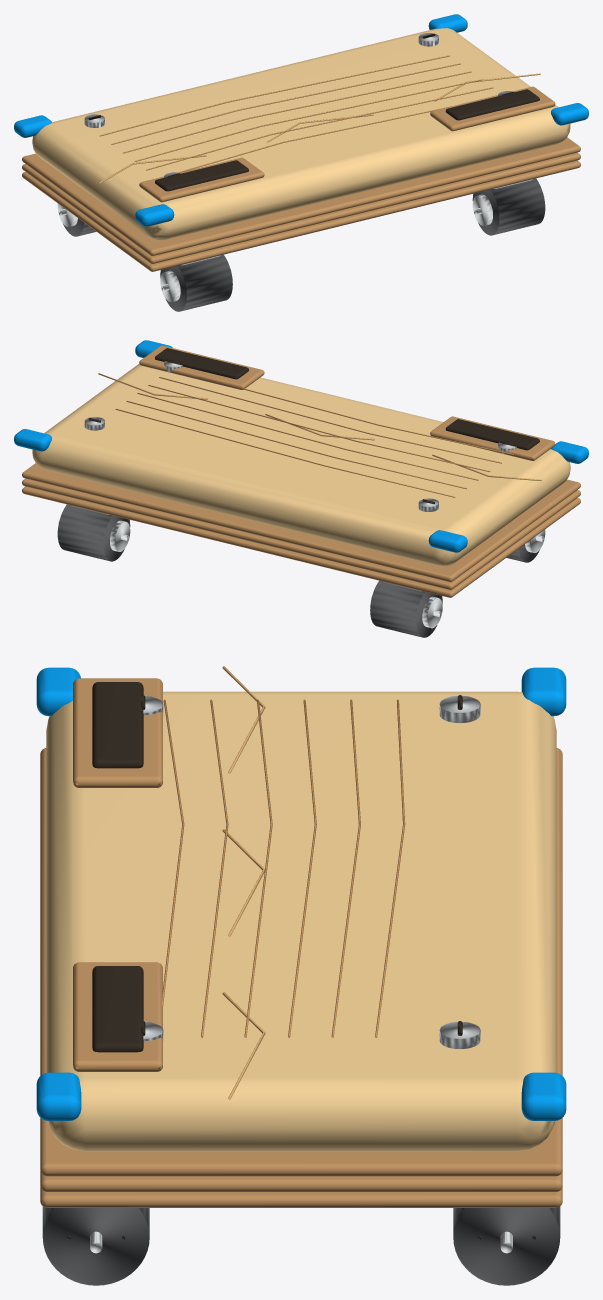
Rendered from Rollbrett_3D_v2.glb.
3 renders of one model, top to bottom at view 1: azimuth 30°, elevation 25°; view 2: azimuth 150°, elevation 25°; view 3: azimuth 270°, elevation 25°, orthographic. The views are drawn at different scales.
Parts seen in each view (by area): view 1: Rollbrett_3D_v2__web_pale_varnished_plywood_roll_board_deck, Rollbrett_3D_v2__web_stacked_darker_plywood_edge_layers, Rollbrett_3D_v2__web_dark_grey_rubber_roll_board_wheels, Rollbrett_3D_v2__web_v2_extra_dark_roll_board_end_grain_stre, Rollbrett_3D_v2__web_dark_recessed_handle_openings_in_roll_b, Rollbrett_3D_v2__web_v2_extra_blue_protective_bumper_on_roll, Rollbrett_3D_v2__web_light_grey_wheel_hubs, Rollbrett_3D_v2__web_brushed_steel_roll_board_caster_forks_s, Rollbrett_3D_v2__web_subtle_amber_wood_grain_lines_on_roll_b; view 2: Rollbrett_3D_v2__web_pale_varnished_plywood_roll_board_deck, Rollbrett_3D_v2__web_stacked_darker_plywood_edge_layers, Rollbrett_3D_v2__web_dark_grey_rubber_roll_board_wheels, Rollbrett_3D_v2__web_v2_extra_dark_roll_board_end_grain_stre, Rollbrett_3D_v2__web_dark_recessed_handle_openings_in_roll_b, Rollbrett_3D_v2__web_v2_extra_blue_protective_bumper_on_roll, Rollbrett_3D_v2__web_light_grey_wheel_hubs, Rollbrett_3D_v2__web_brushed_steel_roll_board_caster_forks_s, Rollbrett_3D_v2__web_subtle_amber_wood_grain_lines_on_roll_b; view 3: Rollbrett_3D_v2__web_pale_varnished_plywood_roll_board_deck, Rollbrett_3D_v2__web_stacked_darker_plywood_edge_layers, Rollbrett_3D_v2__web_dark_grey_rubber_roll_board_wheels, Rollbrett_3D_v2__web_dark_recessed_handle_openings_in_roll_b, Rollbrett_3D_v2__web_v2_extra_blue_protective_bumper_on_roll, Rollbrett_3D_v2__web_v2_extra_dark_roll_board_end_grain_stre, Rollbrett_3D_v2__web_brushed_steel_roll_board_caster_forks_s, Rollbrett_3D_v2__web_subtle_amber_wood_grain_lines_on_roll_b.
Boxes of the visible parts, <box> form: Rollbrett_3D_v2__web_pale_varnished_plywood_roll_board_deck: <box>32,28,570,240</box>; Rollbrett_3D_v2__web_stacked_darker_plywood_edge_layers: <box>22,86,580,271</box>; Rollbrett_3D_v2__web_dark_grey_rubber_roll_board_wheels: <box>63,178,545,311</box>; Rollbrett_3D_v2__web_v2_extra_dark_roll_board_end_grain_stre: <box>99,55,493,172</box>; Rollbrett_3D_v2__web_dark_recessed_handle_openings_in_roll_b: <box>88,33,539,191</box>; Rollbrett_3D_v2__web_v2_extra_blue_protective_bumper_on_roll: <box>14,14,588,226</box>; Rollbrett_3D_v2__web_light_grey_wheel_hubs: <box>57,194,492,302</box>; Rollbrett_3D_v2__web_brushed_steel_roll_board_caster_forks_s: <box>58,33,544,291</box>; Rollbrett_3D_v2__web_subtle_amber_wood_grain_lines_on_roll_b: <box>99,73,540,183</box>; Rollbrett_3D_v2__web_pale_varnished_plywood_roll_board_deck: <box>32,364,570,566</box>; Rollbrett_3D_v2__web_stacked_darker_plywood_edge_layers: <box>22,345,580,597</box>; Rollbrett_3D_v2__web_dark_grey_rubber_roll_board_wheels: <box>57,504,539,637</box>; Rollbrett_3D_v2__web_v2_extra_dark_roll_board_end_grain_stre: <box>115,377,513,497</box>; Rollbrett_3D_v2__web_dark_recessed_handle_openings_in_roll_b: <box>88,348,539,504</box>; Rollbrett_3D_v2__web_v2_extra_blue_protective_bumper_on_roll: <box>14,340,588,552</box>; Rollbrett_3D_v2__web_light_grey_wheel_hubs: <box>110,520,545,628</box>; Rollbrett_3D_v2__web_brushed_steel_roll_board_caster_forks_s: <box>58,361,544,617</box>; Rollbrett_3D_v2__web_subtle_amber_wood_grain_lines_on_roll_b: <box>98,373,541,481</box>; Rollbrett_3D_v2__web_pale_varnished_plywood_roll_board_deck: <box>46,691,556,1151</box>; Rollbrett_3D_v2__web_stacked_darker_plywood_edge_layers: <box>40,678,562,1207</box>; Rollbrett_3D_v2__web_dark_grey_rubber_roll_board_wheels: <box>42,1206,560,1285</box>; Rollbrett_3D_v2__web_dark_recessed_handle_openings_in_roll_b: <box>92,682,462,1052</box>; Rollbrett_3D_v2__web_v2_extra_blue_protective_bumper_on_roll: <box>36,667,566,1120</box>; Rollbrett_3D_v2__web_v2_extra_dark_roll_board_end_grain_stre: <box>162,699,405,1037</box>; Rollbrett_3D_v2__web_brushed_steel_roll_board_caster_forks_s: <box>90,695,512,1253</box>; Rollbrett_3D_v2__web_subtle_amber_wood_grain_lines_on_roll_b: <box>222,666,265,1099</box>.
Size of the model in its own units: 1.66 by 0.44 by 0.852.
